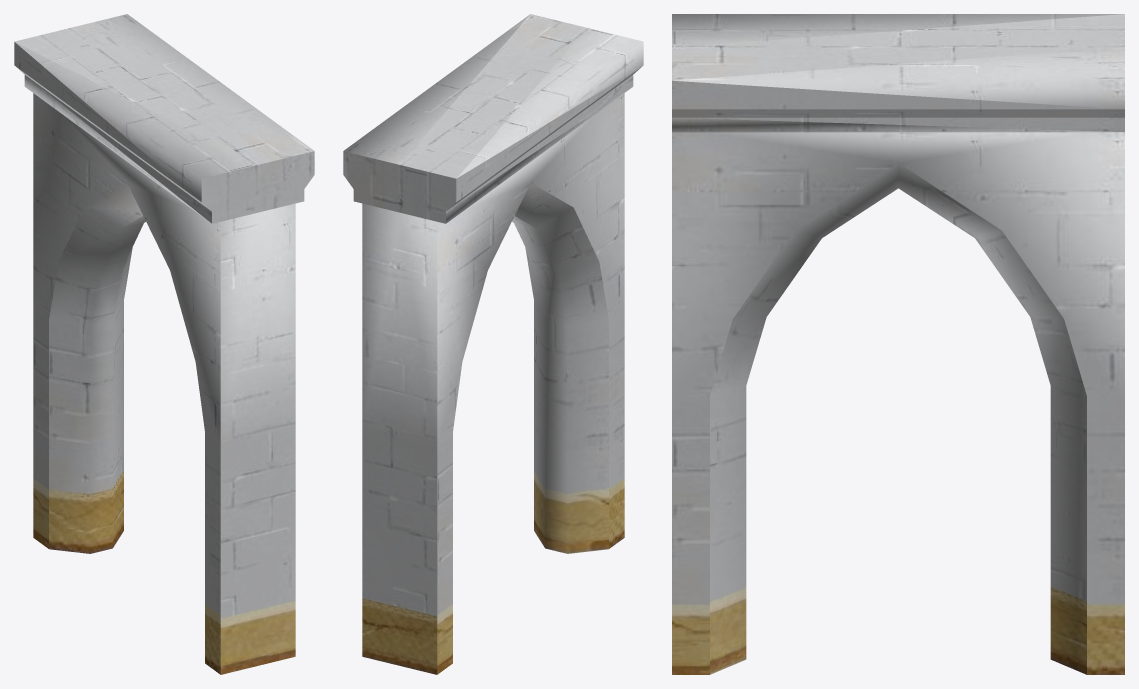
The model's file is sf_set_arch.glb.
3 renders of one model, left to right at view 1: azimuth 30°, elevation 25°; view 2: azimuth 150°, elevation 25°; view 3: azimuth 270°, elevation 25°, orthographic. The views are drawn at different scales.
Parts seen in each view (by area): view 1: sf_set_arch; view 2: sf_set_arch; view 3: sf_set_arch.
Boxes of the visible parts, x1,y1,x2,y2 form: sf_set_arch: [14, 14, 314, 674]; sf_set_arch: [343, 14, 643, 674]; sf_set_arch: [672, 14, 1124, 674].
Size of the model in its own units: 1.05 by 4.42 by 3.
1 material, 1 textured.
